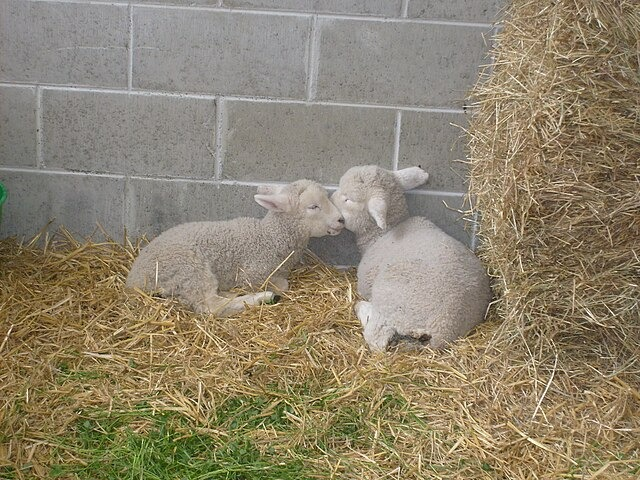resting: (126, 178, 347, 312), (328, 165, 488, 348)
